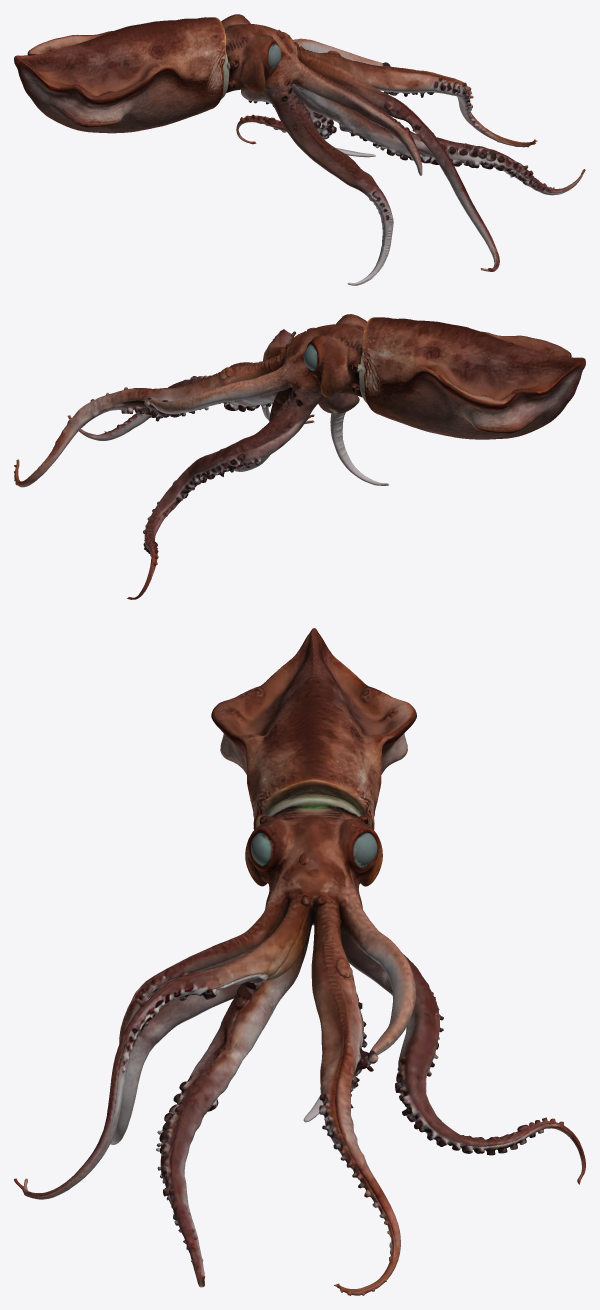
File: giant_squid.glb
3 views of the same model, one above another, from view 1: azimuth 30°, elevation 25°; view 2: azimuth 150°, elevation 25°; view 3: azimuth 270°, elevation 25° (orthographic). The views are drawn at different scales.
Parts seen in each view (by area): view 1: tripo_node_5b438d8d-f2f7-4592-b0b9-984ff90ae31a; view 2: tripo_node_5b438d8d-f2f7-4592-b0b9-984ff90ae31a; view 3: tripo_node_5b438d8d-f2f7-4592-b0b9-984ff90ae31a.
Part boxes in pixels (x1,y1,x2,y2): tripo_node_5b438d8d-f2f7-4592-b0b9-984ff90ae31a: [14, 14, 585, 285]; tripo_node_5b438d8d-f2f7-4592-b0b9-984ff90ae31a: [14, 314, 585, 599]; tripo_node_5b438d8d-f2f7-4592-b0b9-984ff90ae31a: [14, 628, 585, 1295].
Bounding box in the file's own units: 0.98 × 0.4235 × 0.6633.
Materials: 1 (1 with a texture image).
